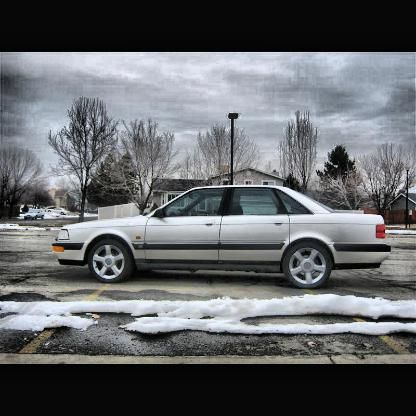Audi V8 Sedan 1994: (53, 187, 392, 290)
